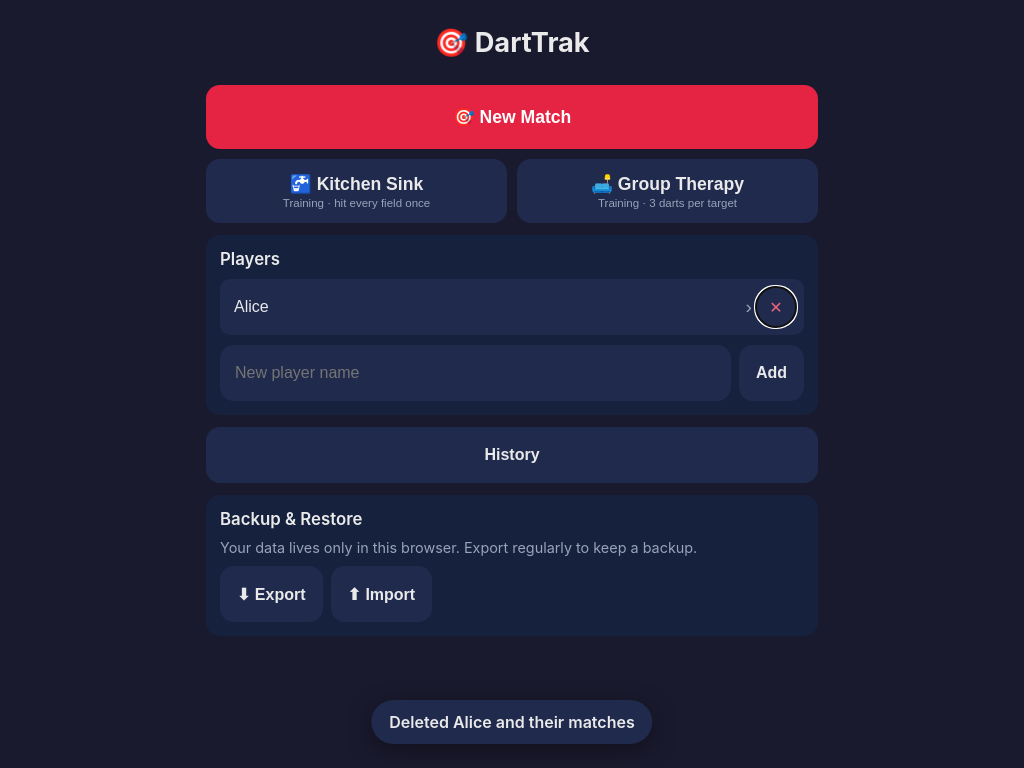
Test: screens render without crashing › Home delete modal moves focus to Cancel and closes on Escape
Step 1. Click the button named "Delete Alice" → (776, 307), box [756,287,796,327]
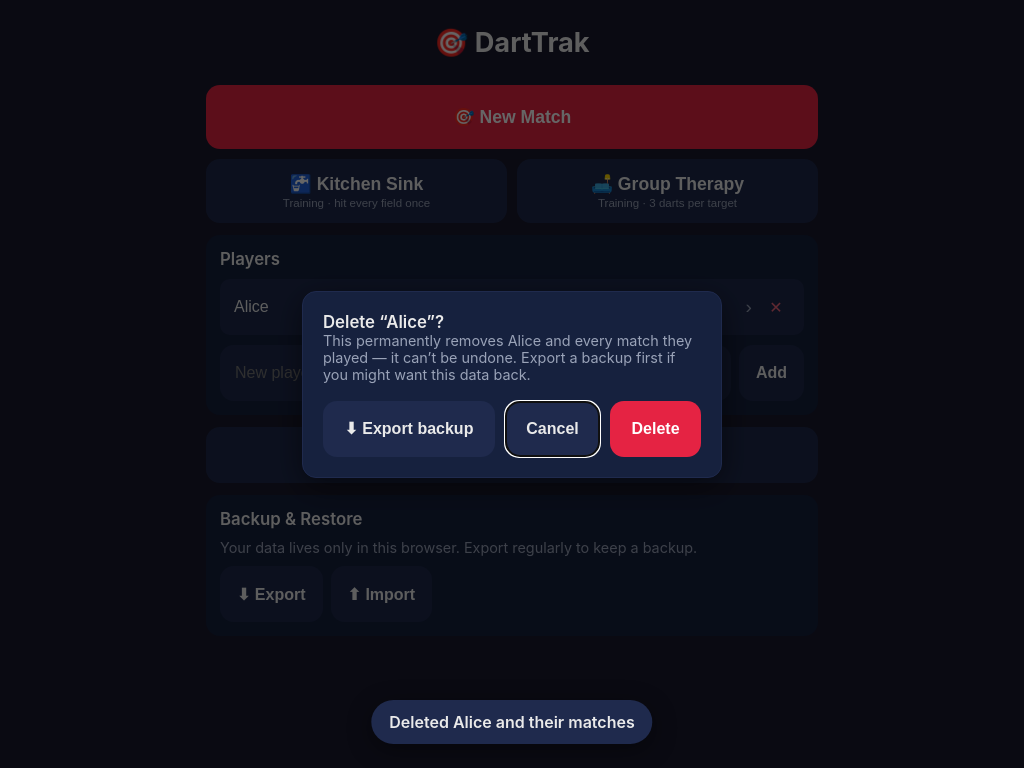
# Escape dismisses without deleting and returns focus to the trigger.
Step 2. Press Escape in the button "Cancel", box [505,400,600,456]
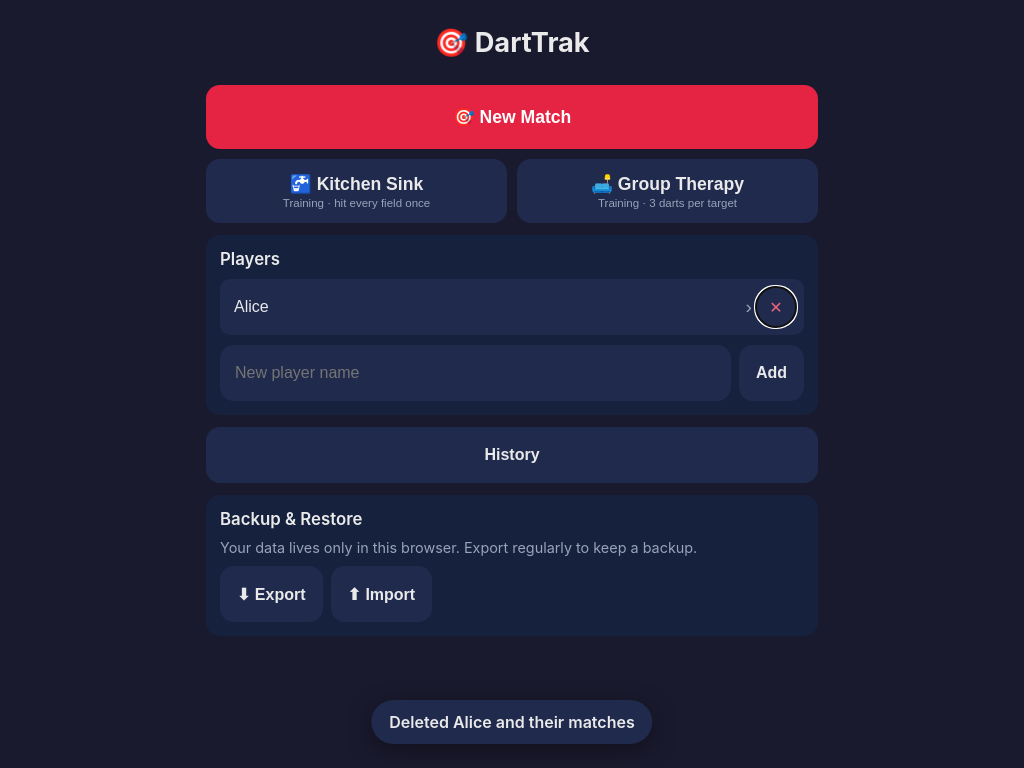
expect the button with aria-label "Open Alice's profile" is shown: met, box [234,288,756,326]
expect the dialog is gone: met
